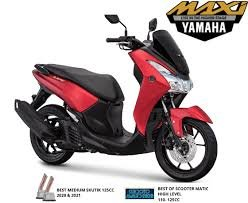motor: (14, 14, 217, 176)
